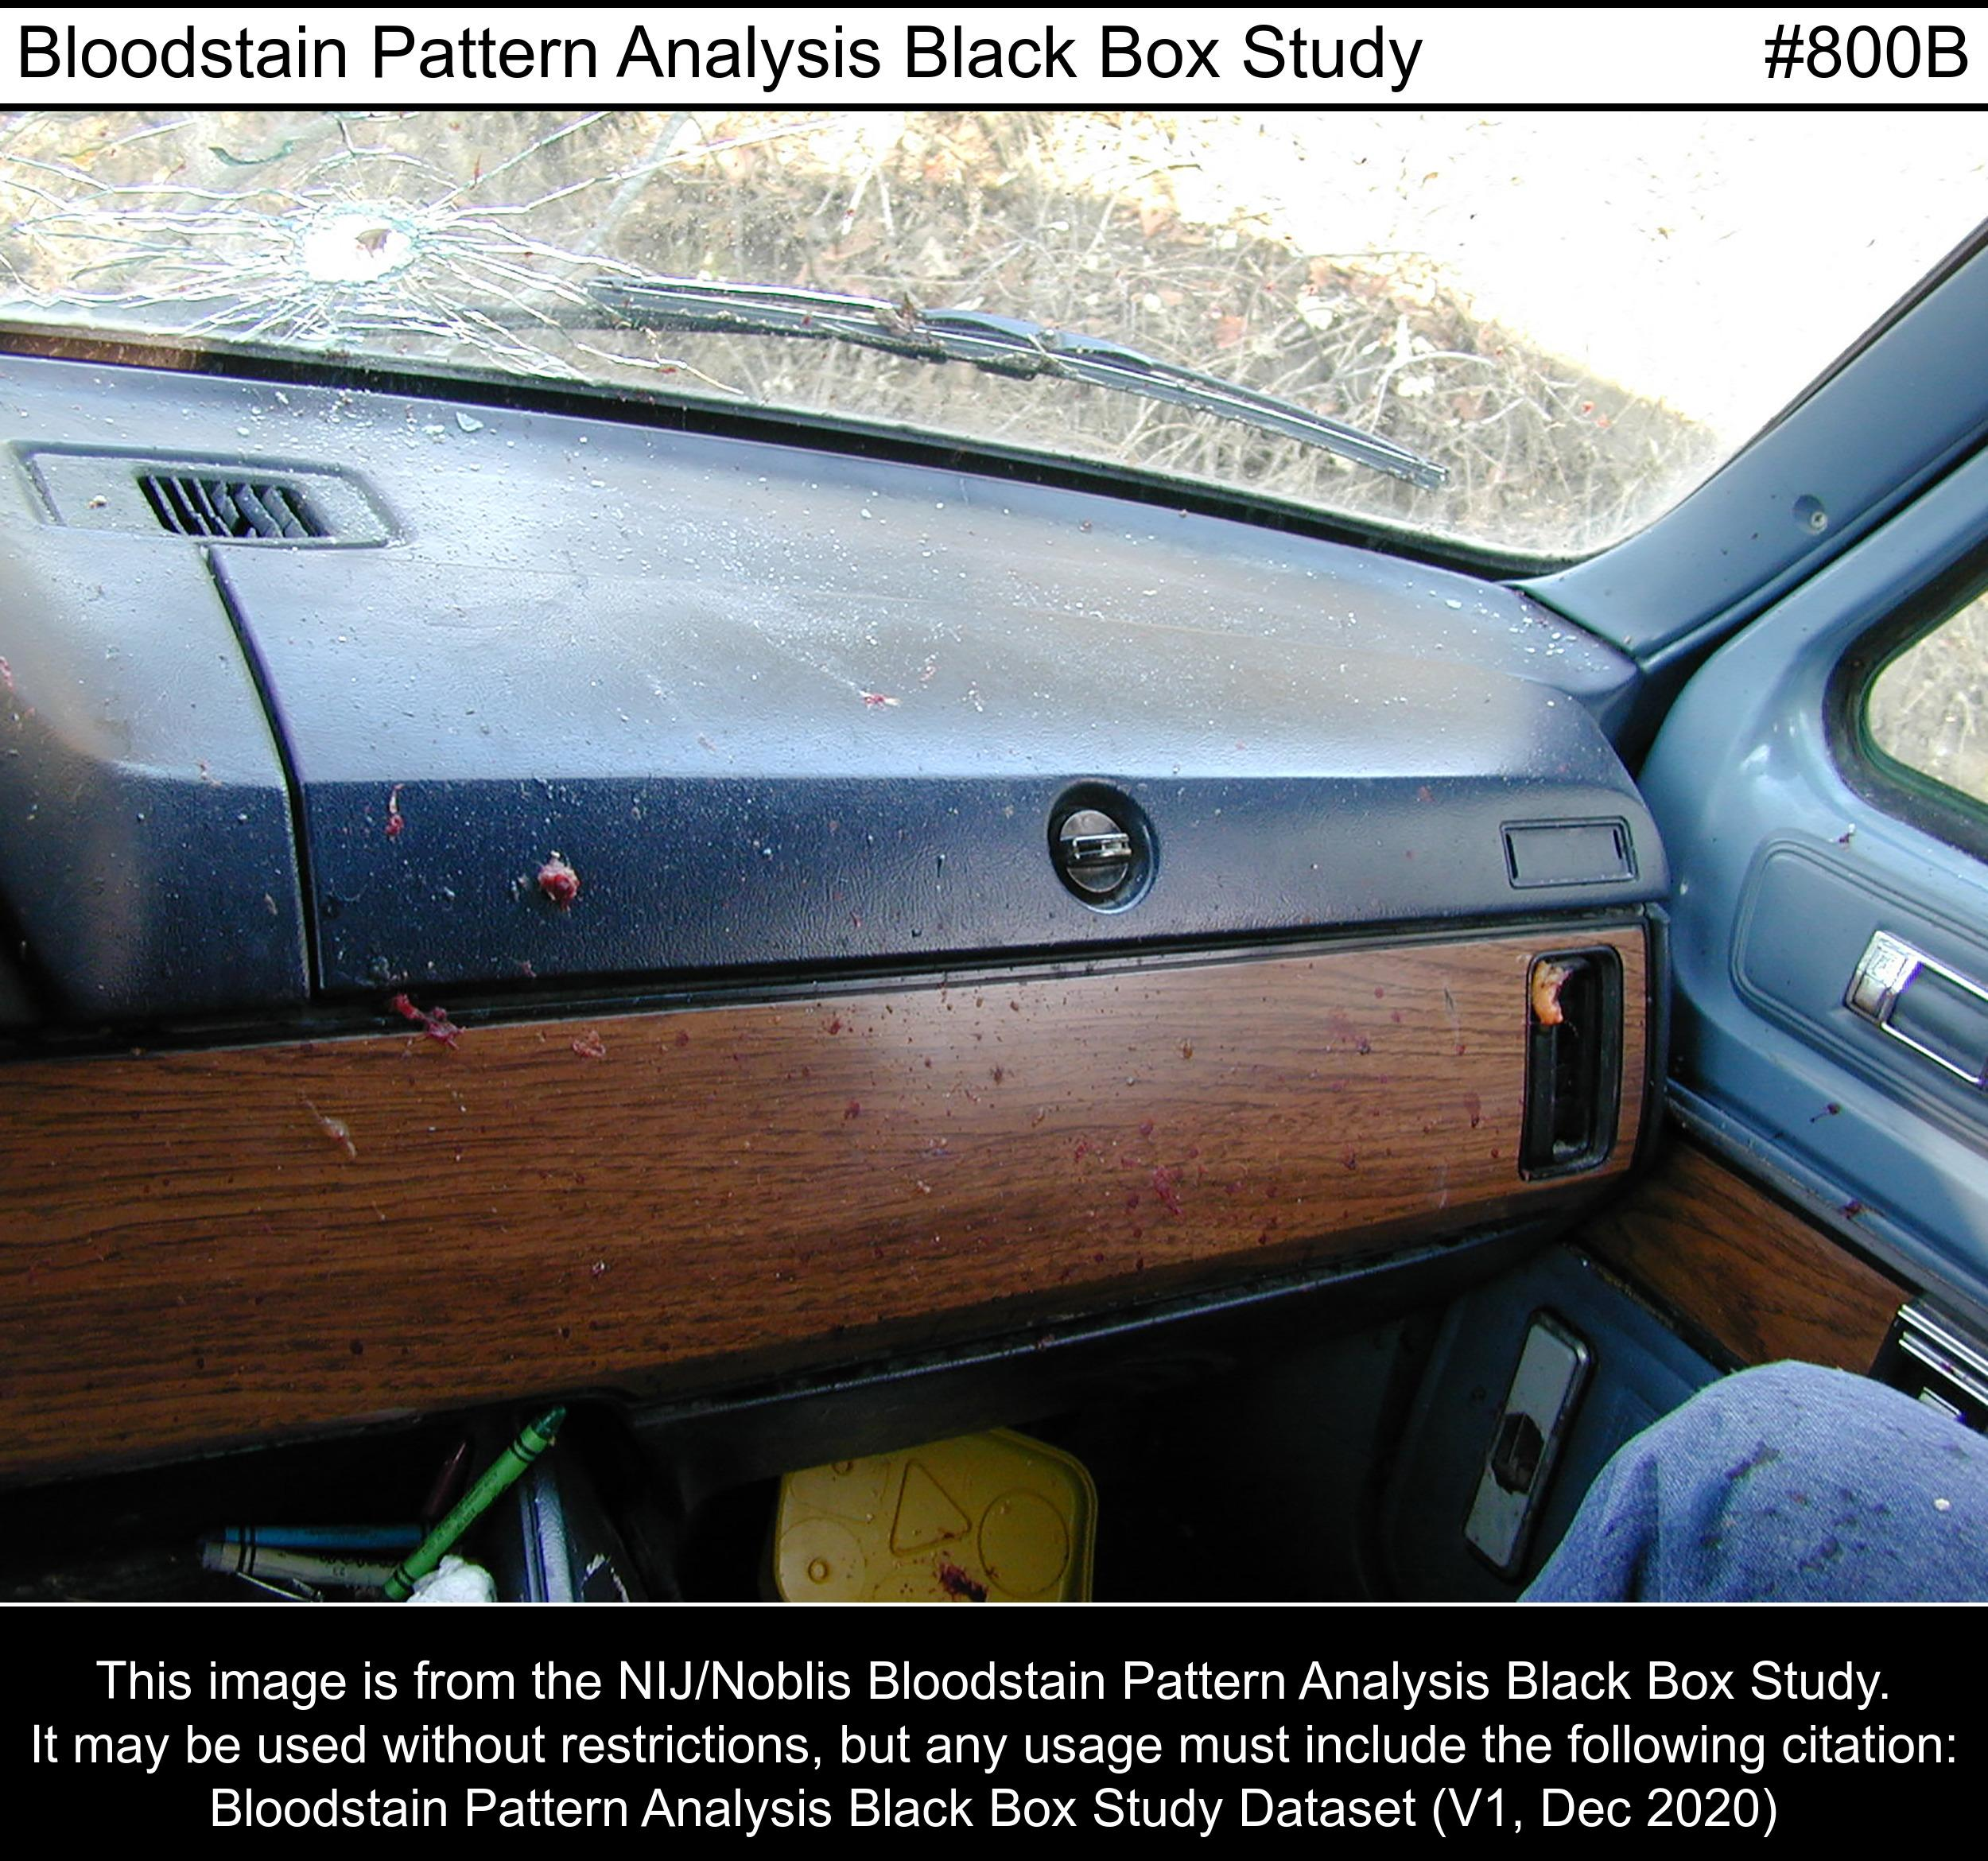Impact: (236, 602, 1511, 1238), (1686, 1399, 1969, 1590), (885, 1509, 1012, 1595)
